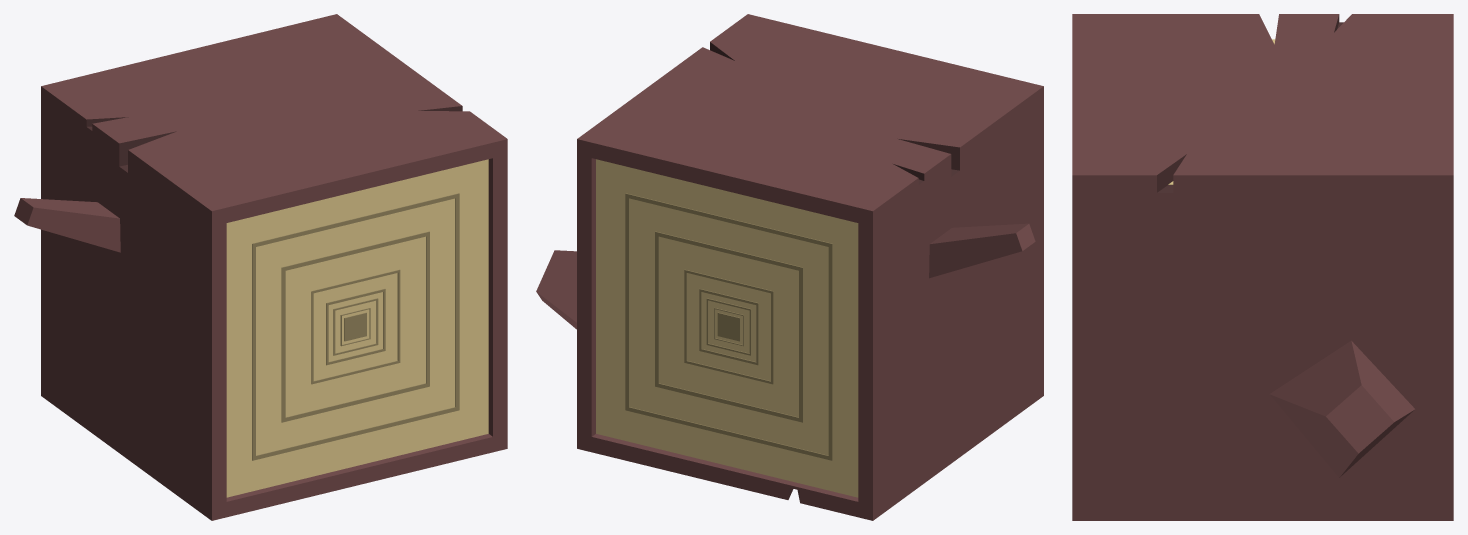
Rendered from log(1).fbx.
3 renders of one model, left to right at view 1: azimuth 30°, elevation 25°; view 2: azimuth 150°, elevation 25°; view 3: azimuth 270°, elevation 25°, orthographic. The views are drawn at different scales.
Visible parts, largest first — view 1: 큐브_2_8, 큐브, 큐브_2, 큐브_1_7, 큐브_1_6, 큐브_1_8, 큐브_1_5, 큐브_1_4, 큐브_1; view 2: 큐브_2_8, 큐브, 큐브_1_7, 큐브_2, 큐브_1_6, 큐브_1_8, 큐브_3, 큐브_1_5, 큐브_1_4, 큐브_1; view 3: 큐브_2_8, 큐브_3, 큐브_4_2.
Boxes of the visible parts, left/top/right/bottom form: 큐브_2_8: left=41, top=14, right=507, bottom=520; 큐브: left=226, top=159, right=488, bottom=497; 큐브_2: left=14, top=198, right=120, bottom=252; 큐브_1_7: left=252, top=193, right=459, bottom=460; 큐브_1_6: left=281, top=231, right=429, bottom=422; 큐브_1_8: left=226, top=158, right=492, bottom=501; 큐브_1_5: left=311, top=269, right=400, bottom=384; 큐브_1_4: left=326, top=289, right=385, bottom=365; 큐브_1: left=344, top=312, right=366, bottom=341; 큐브_2_8: left=577, top=14, right=1043, bottom=520; 큐브: left=596, top=159, right=858, bottom=497; 큐브_1_7: left=625, top=193, right=832, bottom=460; 큐브_2: left=929, top=223, right=1035, bottom=278; 큐브_1_6: left=655, top=231, right=803, bottom=422; 큐브_1_8: left=591, top=158, right=858, bottom=501; 큐브_3: left=536, top=250, right=576, bottom=329; 큐브_1_5: left=684, top=269, right=773, bottom=384; 큐브_1_4: left=699, top=289, right=758, bottom=365; 큐브_1: left=717, top=312, right=740, bottom=341; 큐브_2_8: left=1072, top=14, right=1453, bottom=520; 큐브_3: left=1269, top=340, right=1414, bottom=477; 큐브_4_2: left=1157, top=154, right=1186, bottom=192.
Size of the model in its own units: 312 by 200 by 200.
